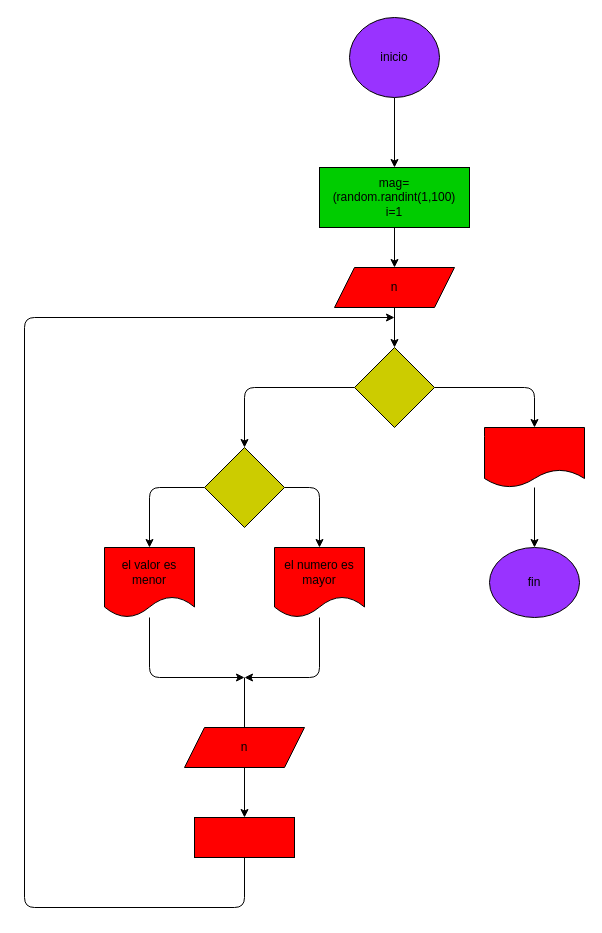
The diagram is 602 pixels wide and 933 high, and some of its shapes have lost their labels. Each missing label, with the box of its shape:
adivinaste: (484, 426, 584, 488)
i=i+1: (194, 816, 294, 858)
n<mag: (204, 446, 284, 528)
usu!=mag: (354, 346, 434, 428)
